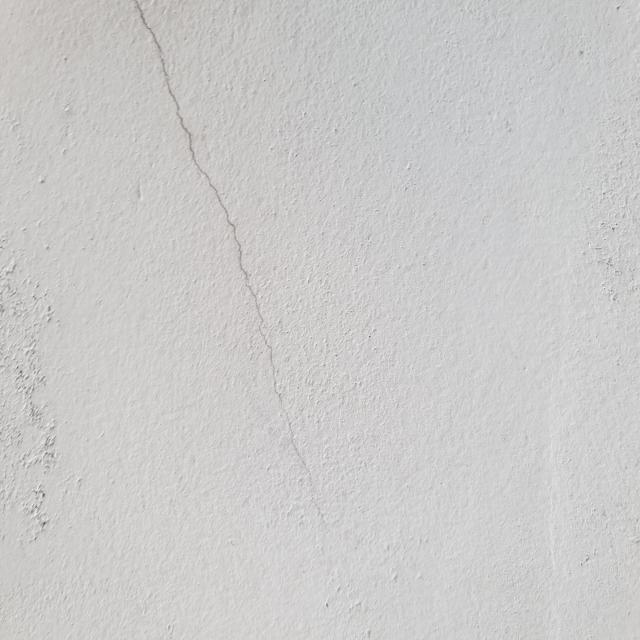SurfaceCrack: (99, 0, 328, 638)
